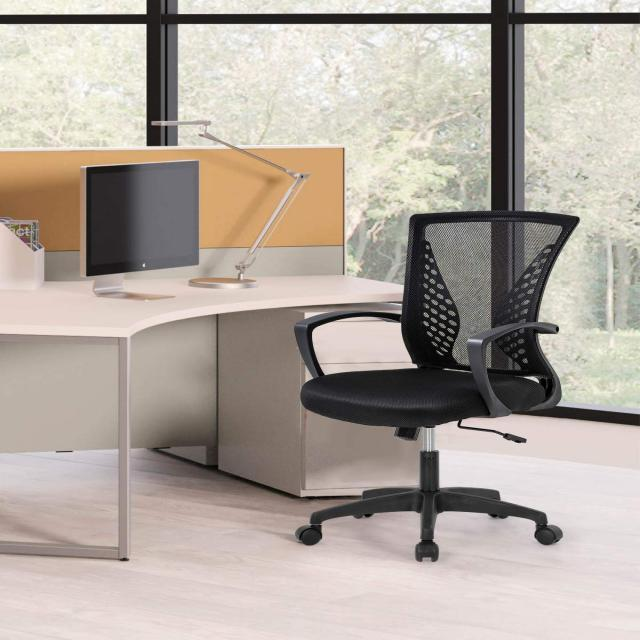chair: (286, 180, 622, 594)
